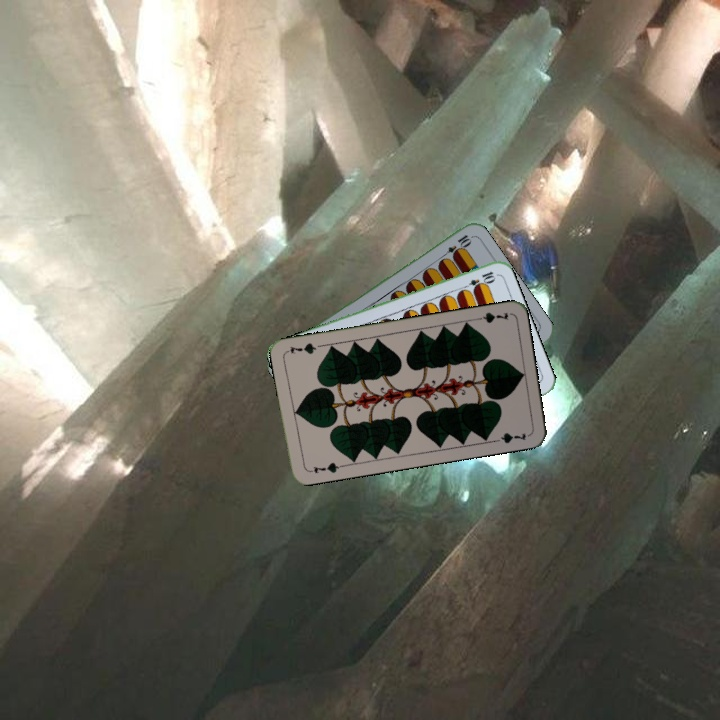E10: (437, 230, 473, 262), (458, 267, 498, 293)
G7: (470, 308, 511, 326), (304, 458, 345, 476)
